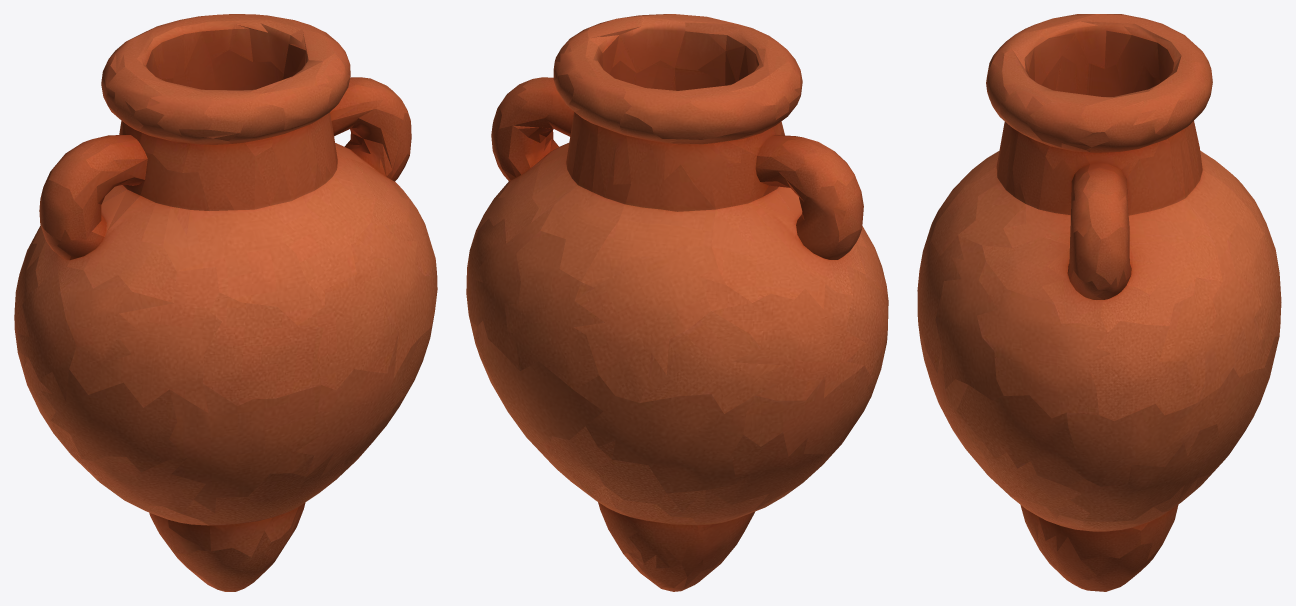
Rendered from hav-krukke.glb.
3 renders of one model, left to right at view 1: azimuth 30°, elevation 25°; view 2: azimuth 150°, elevation 25°; view 3: azimuth 270°, elevation 25°, orthographic.
Size of the model in its own units: 1.43 by 1.9 by 1.18.
1 material, 1 textured.
